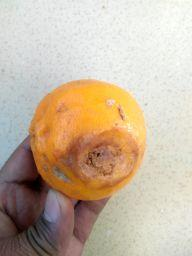Unripe: (30, 81, 147, 200)
